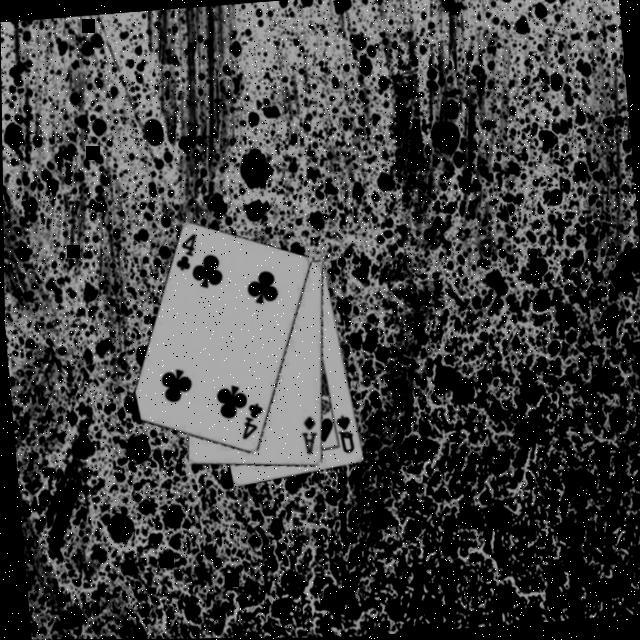4C: (172, 232, 203, 276), (237, 402, 267, 444)
AD: (297, 415, 322, 460)
QS: (333, 414, 357, 457)
